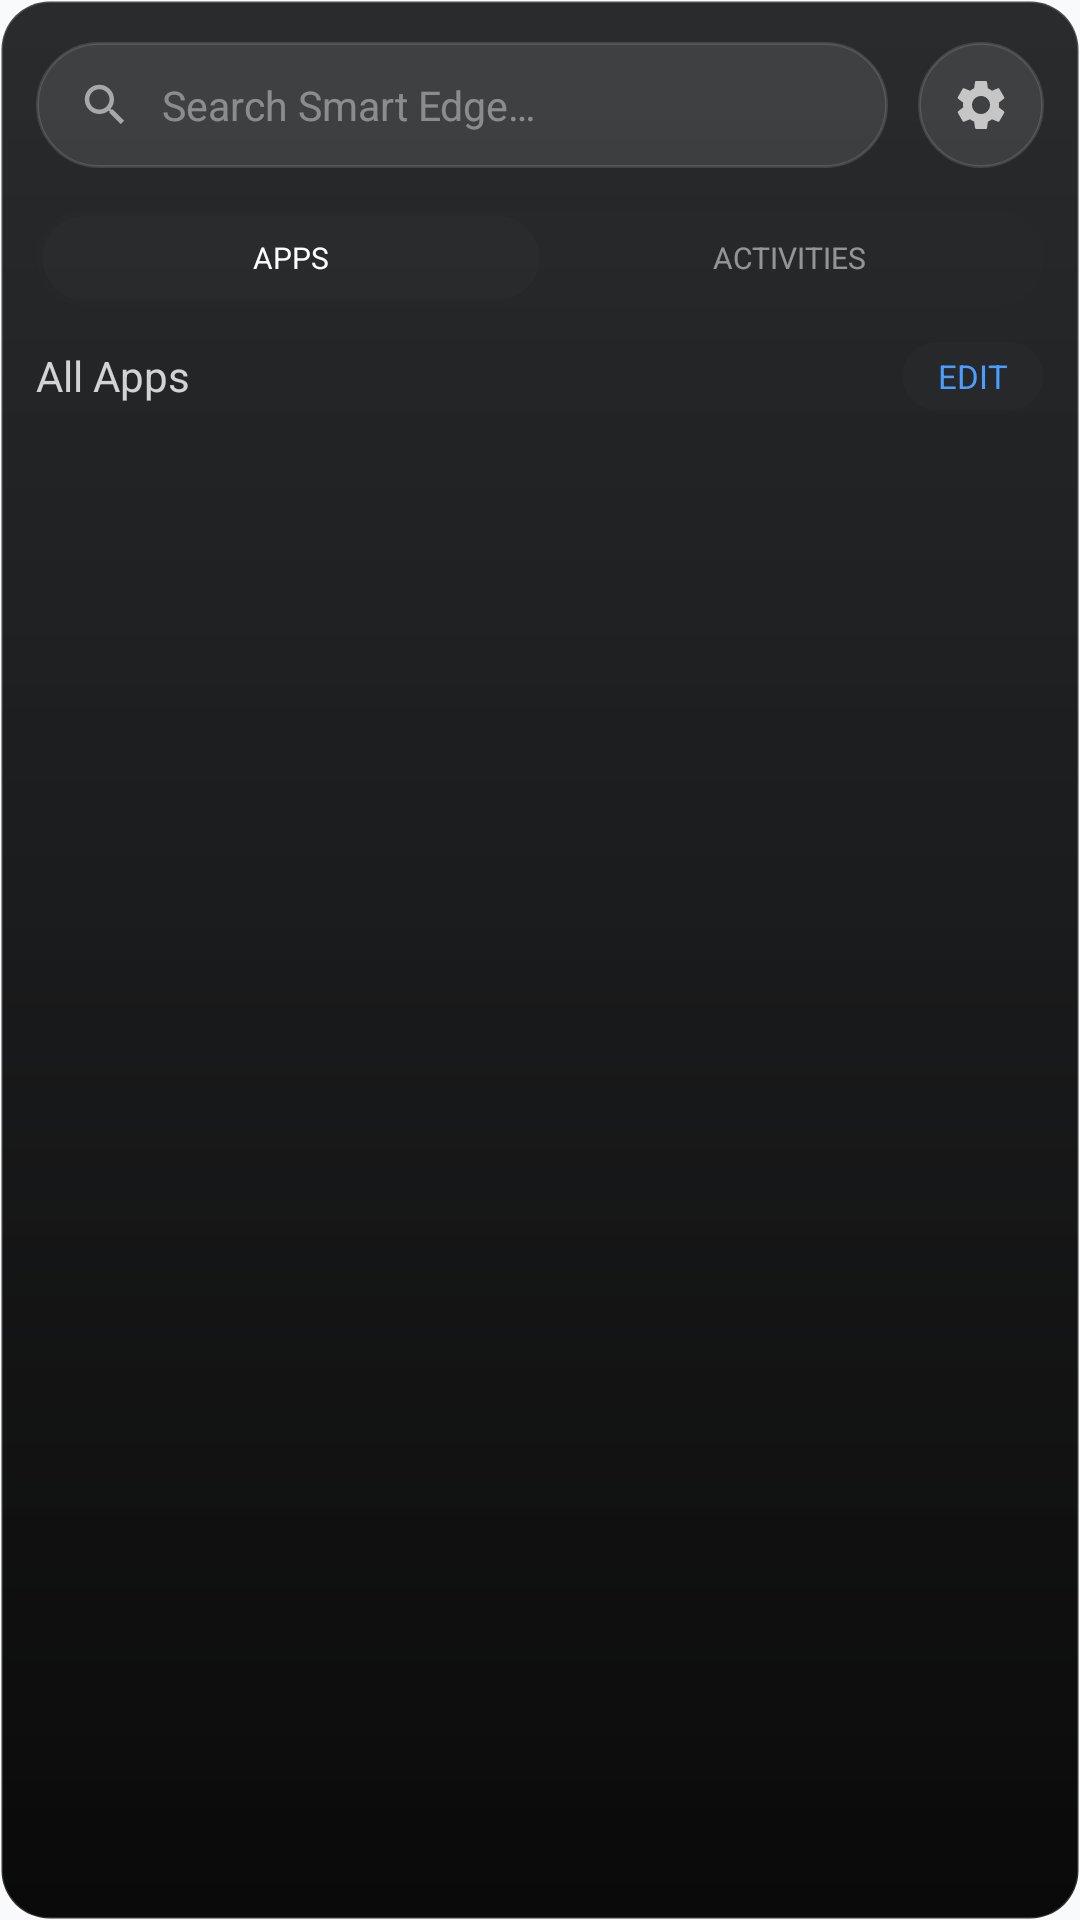

Icon bounding boxes for this 1080×1920 phone screenshot, format (x1, y1, x2, y2):
settings: (918, 42, 1044, 168)
